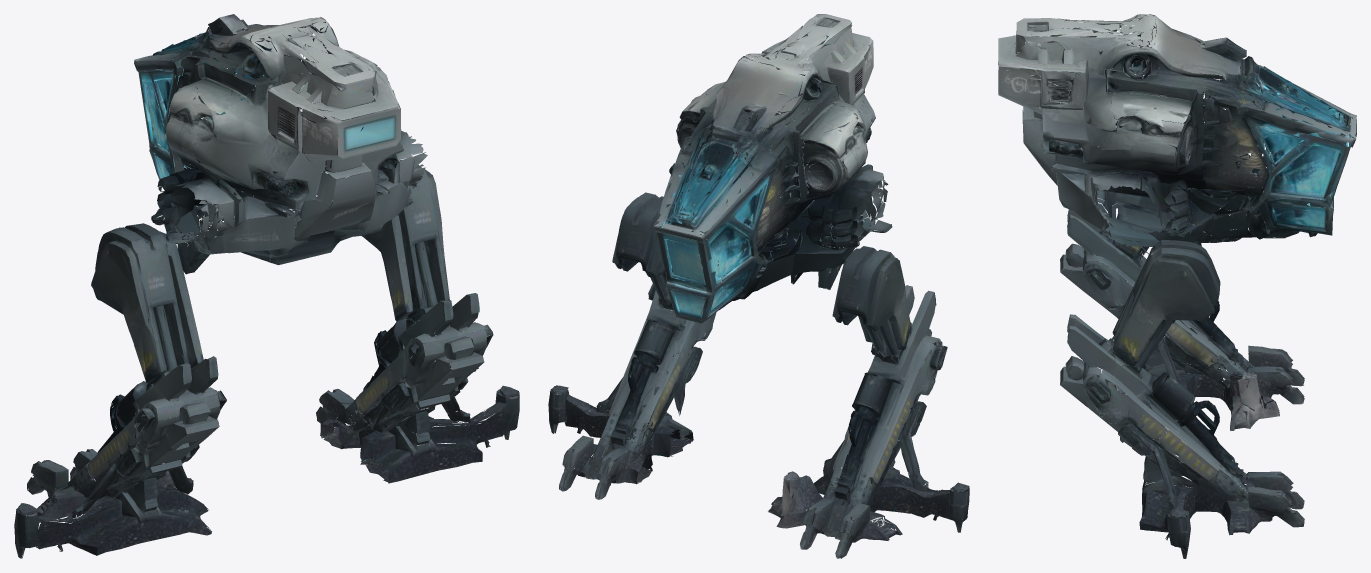
File: light_cc59ad.glb
3 renders of one model, left to right at view 1: azimuth 30°, elevation 25°; view 2: azimuth 150°, elevation 25°; view 3: azimuth 270°, elevation 25°, orthographic. The views are drawn at different scales.
Visible parts, largest first — view 1: hull, shin_r, shin_l, thigh_l, foot_l, foot_r, thigh_r; view 2: hull, shin_l, shin_r, foot_l, foot_r, thigh_l, thigh_r; view 3: hull, shin_r, thigh_r, foot_r, shin_l, foot_l.
Boxes of the visible parts, box(x1,y1,x2,y2) form: hull: box(121, 14, 427, 535); shin_r: box(353, 293, 519, 433); shin_l: box(16, 356, 220, 514); thigh_l: box(91, 216, 203, 387); foot_l: box(14, 449, 188, 558); foot_r: box(316, 382, 519, 483); thigh_r: box(361, 160, 449, 323); hull: box(653, 14, 892, 528); shin_l: box(830, 285, 969, 492); shin_r: box(550, 283, 716, 434); foot_l: box(800, 459, 969, 558); foot_r: box(548, 388, 693, 499); thigh_l: box(832, 233, 914, 355); thigh_r: box(612, 192, 677, 299); hull: box(998, 14, 1356, 430); shin_r: box(1060, 314, 1238, 517); thigh_r: box(1105, 230, 1220, 367); foot_r: box(1139, 462, 1304, 558); shin_l: box(1060, 209, 1238, 365); foot_l: box(1142, 345, 1304, 407).
Size of the model in its own units: 3.41 by 3.2 by 2.43.
Materials: 1 (1 with a texture image).
